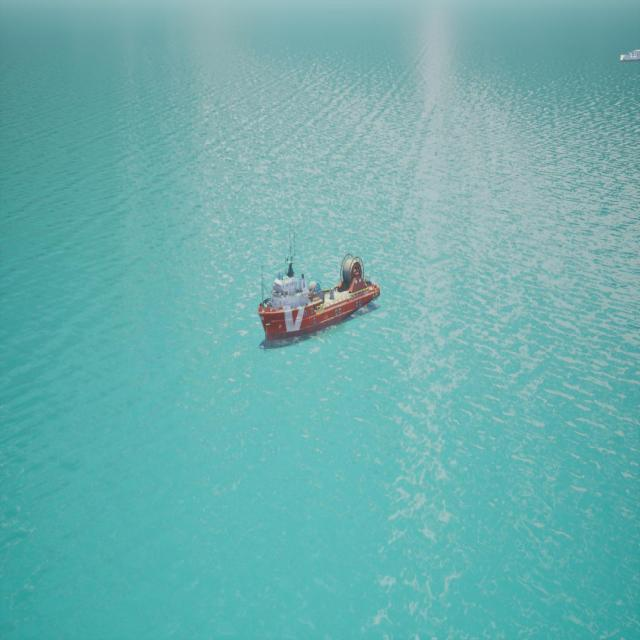tug boat: (257, 255, 383, 348)
